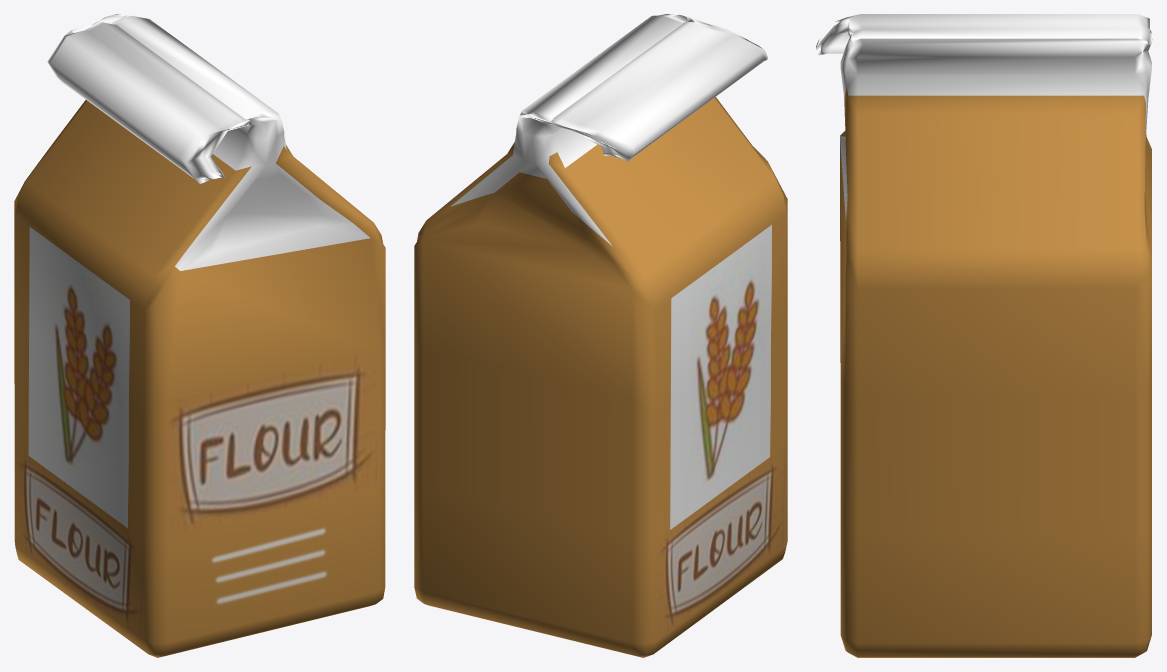
File: SM_Flour.fbx
The picture shows the model from 3 angles, left to right: view 1: azimuth 30°, elevation 25°; view 2: azimuth 150°, elevation 25°; view 3: azimuth 270°, elevation 25°; orthographic projection. The views are drawn at different scales.
Parts seen in each view (by area): view 1: Milk.002; view 2: Milk.002; view 3: Milk.002.
Part boxes in pixels (box(x1,y1,x2,y2)): Milk.002: box(14, 14, 385, 657); Milk.002: box(414, 14, 787, 657); Milk.002: box(816, 14, 1152, 657).
Size of the model in its own units: 64.55 by 133 by 73.01.
